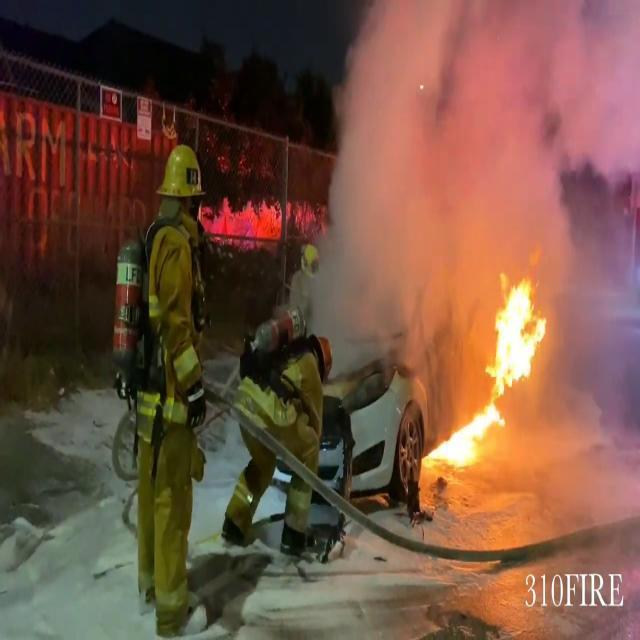Fire: (426, 268, 552, 472)
Smoke: (302, 1, 640, 323)
